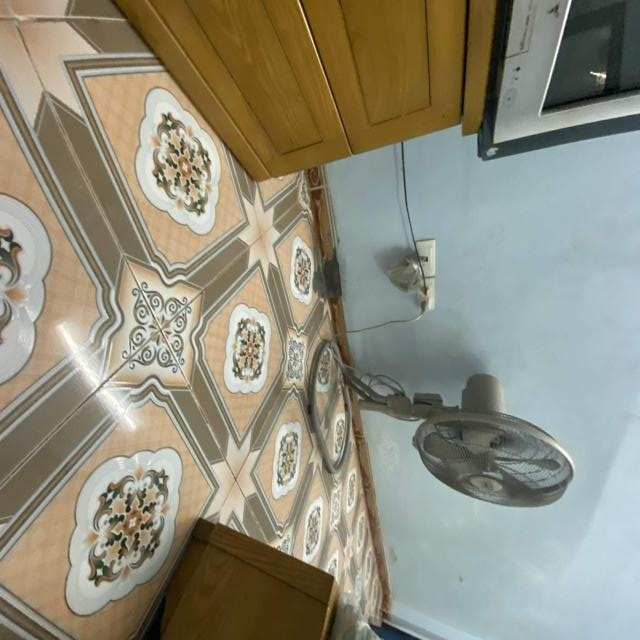outlet: (415, 238, 436, 276), (417, 277, 435, 311)
